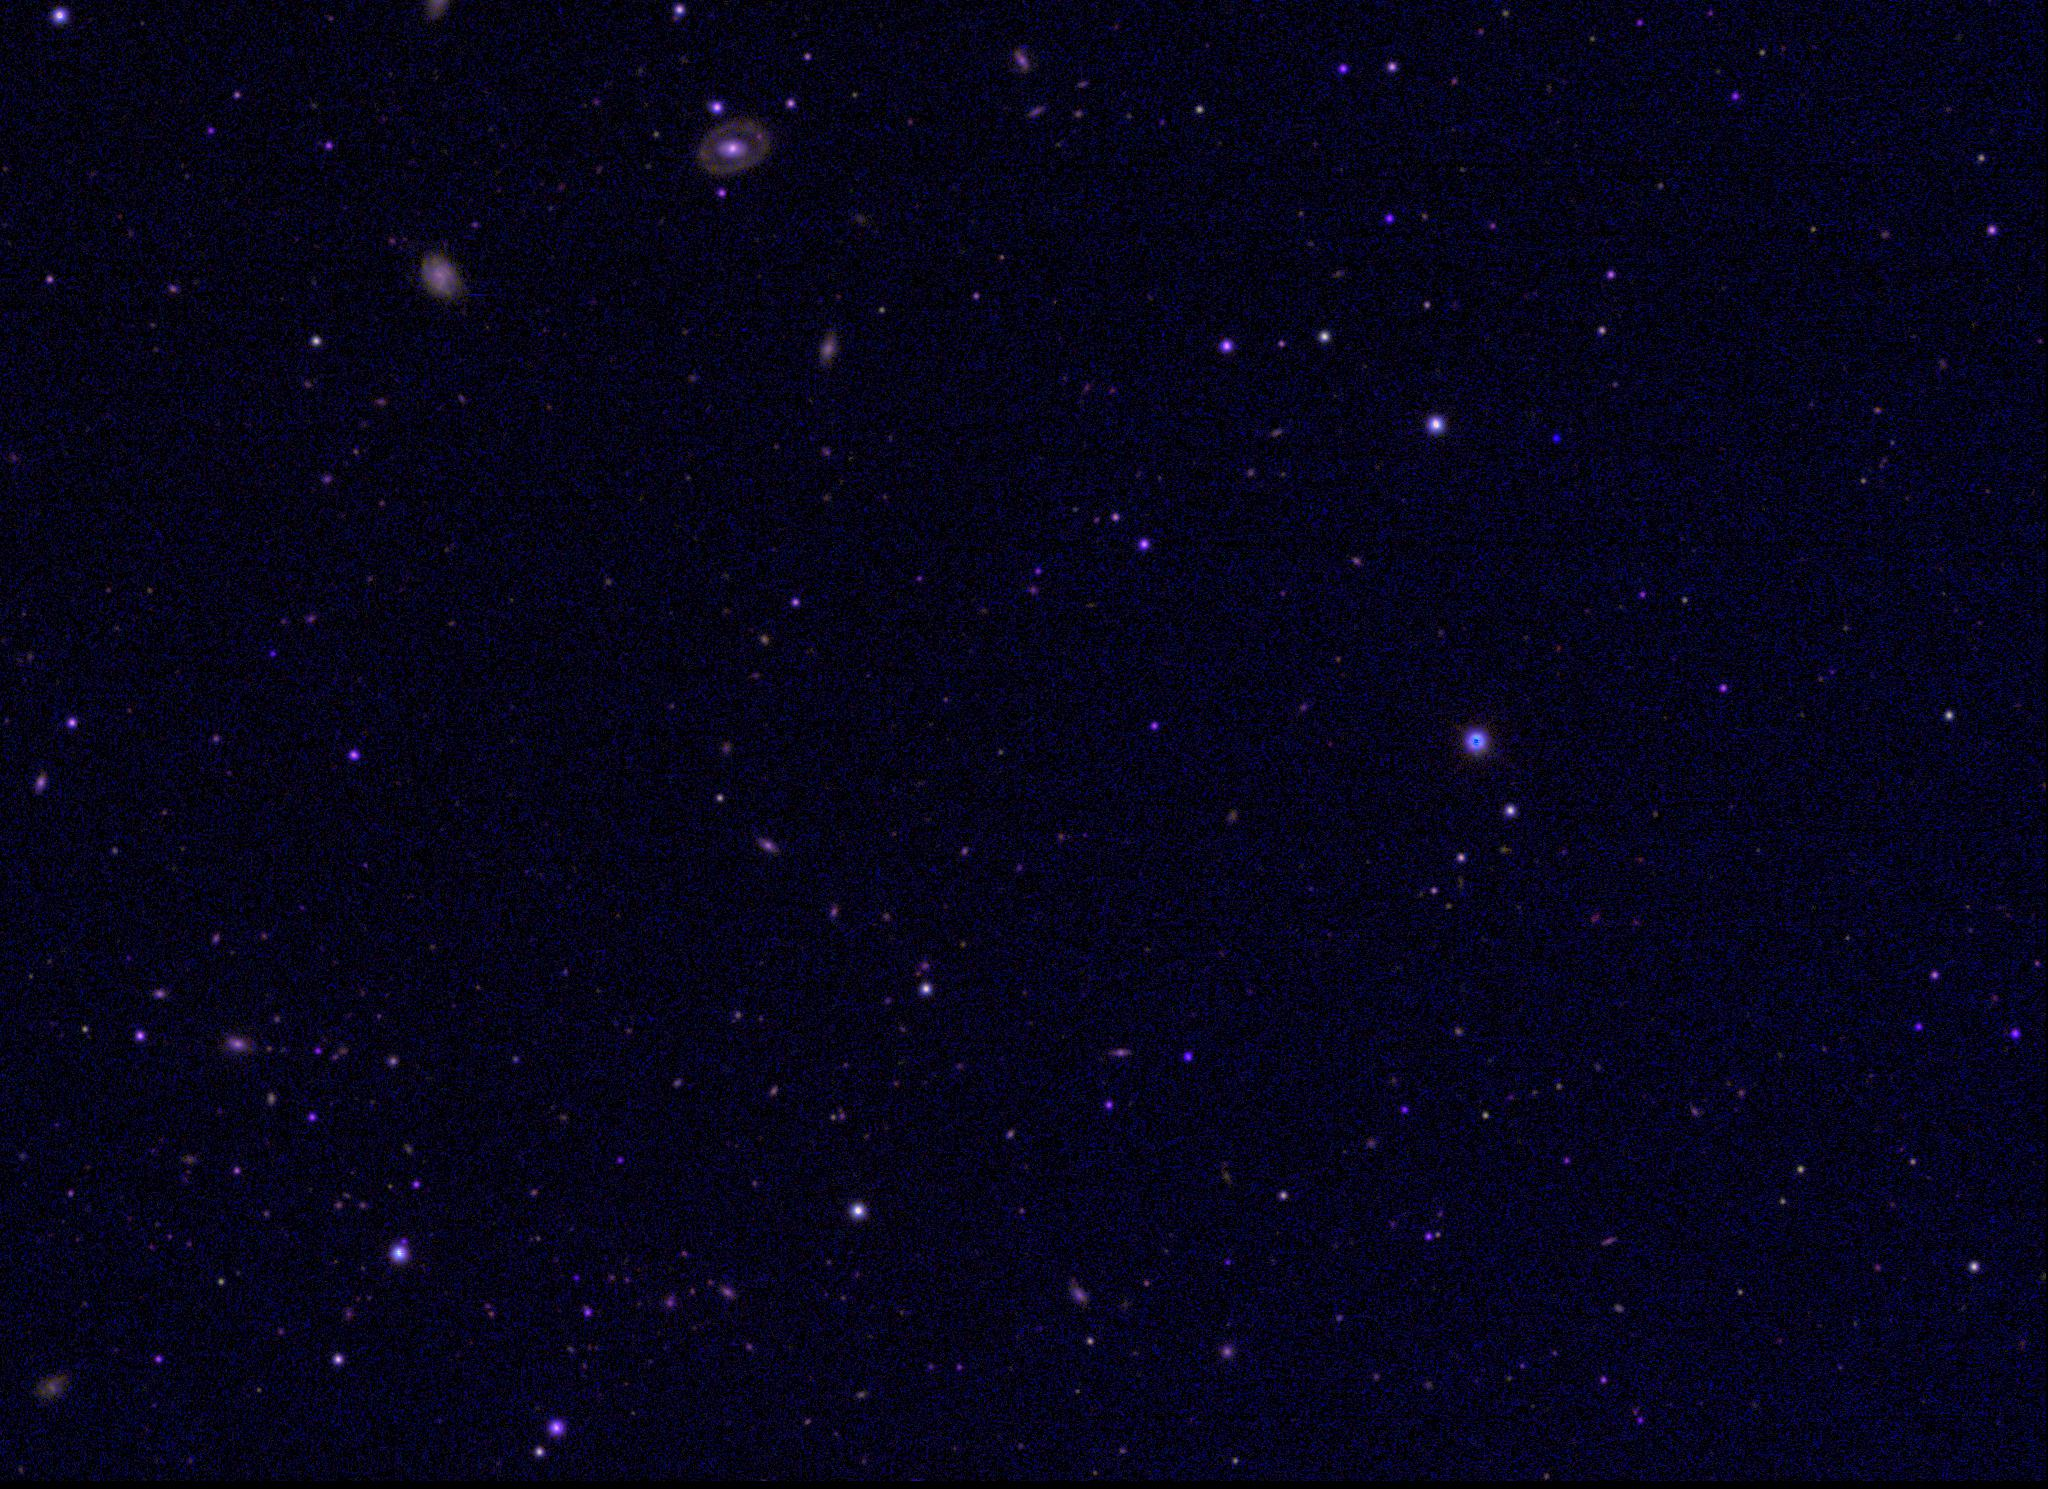L: (1549, 431, 1561, 445)
